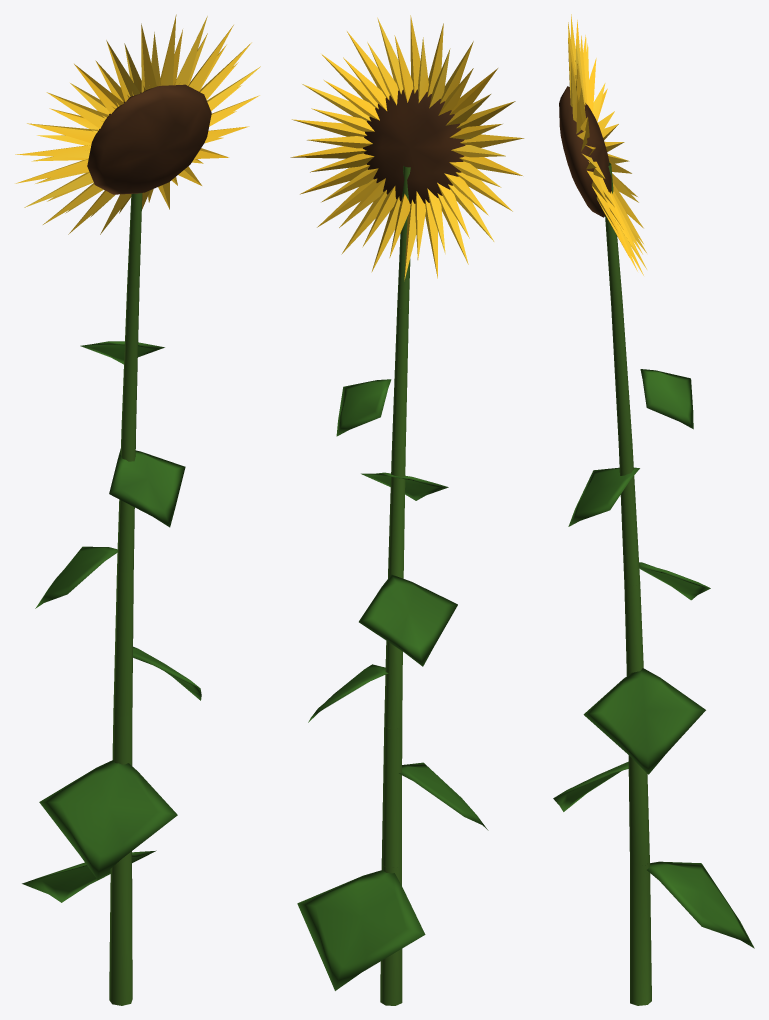
Rendered from Sunflower.glb.
3 views of the same model, side by side, from view 1: azimuth 30°, elevation 25°; view 2: azimuth 150°, elevation 25°; view 3: azimuth 270°, elevation 25° (orthographic). The views are drawn at different scales.
Parts seen in each view (by area): view 1: SunLeaves, Petals, Stem, Disc; view 2: Petals, SunLeaves, Stem, Disc; view 3: SunLeaves, Stem, Petals, Disc.
Boxes of the visible parts, x1=… form: SunLeaves: x1=22, y1=341, x2=201, y2=902; Petals: x1=15, y1=14, x2=260, y2=234; Stem: x1=109, y1=193, x2=142, y2=1005; Disc: x1=87, y1=84, x2=211, y2=194; Petals: x1=290, y1=15, x2=524, y2=280; SunLeaves: x1=297, y1=379, x2=488, y2=990; Stem: x1=380, y1=166, x2=410, y2=1005; Disc: x1=363, y1=89, x2=465, y2=203; SunLeaves: x1=553, y1=369, x2=754, y2=948; Stem: x1=605, y1=162, x2=651, y2=1005; Petals: x1=568, y1=14, x2=646, y2=275; Disc: x1=559, y1=86, x2=611, y2=217.
Size of the model in its own units: 0.4 by 1.57 by 0.2952.
